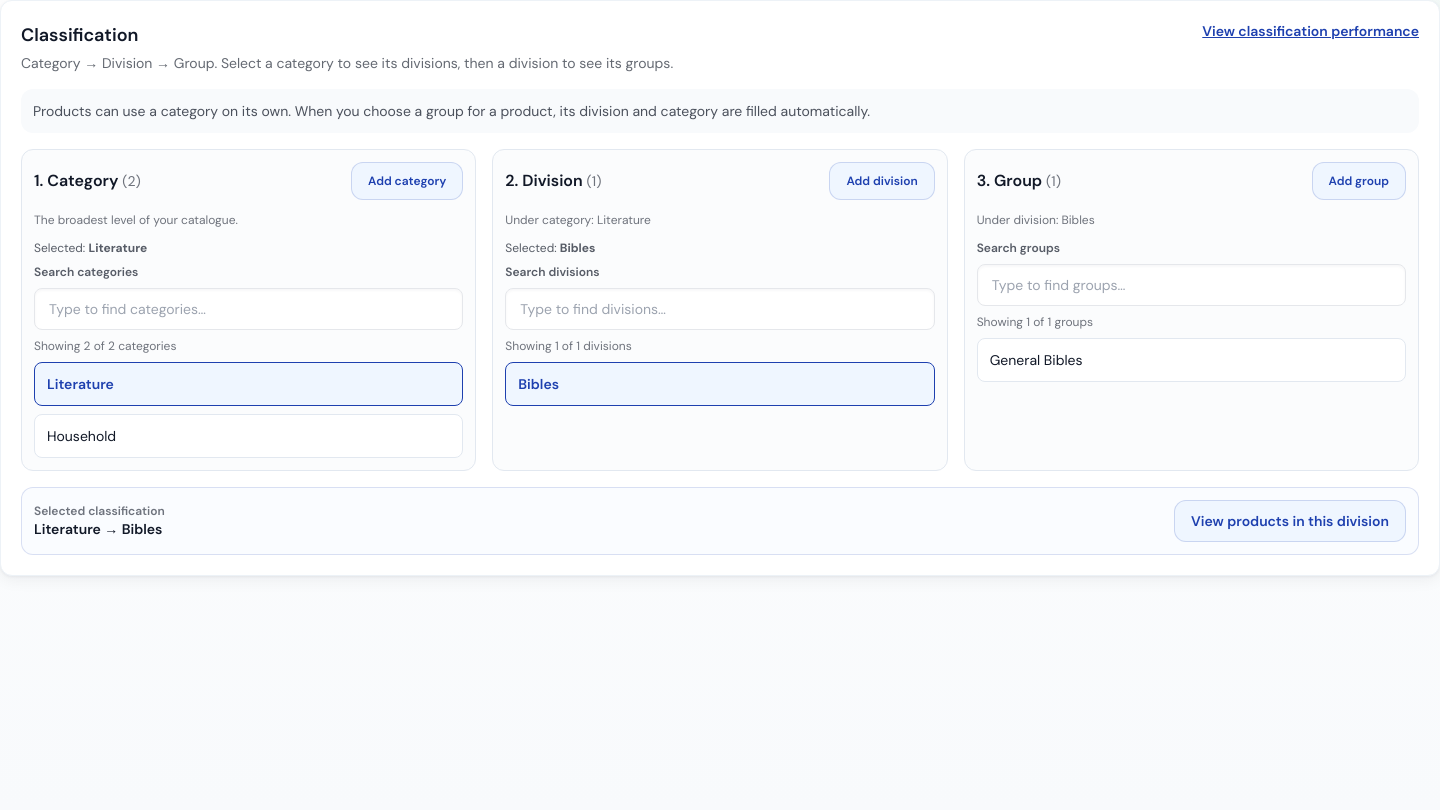
it: preserves the selected parent and typed name after a failed save
The image size is (1440, 810).
Click the button "Add group": (1359, 181) [1312,162,1406,200]
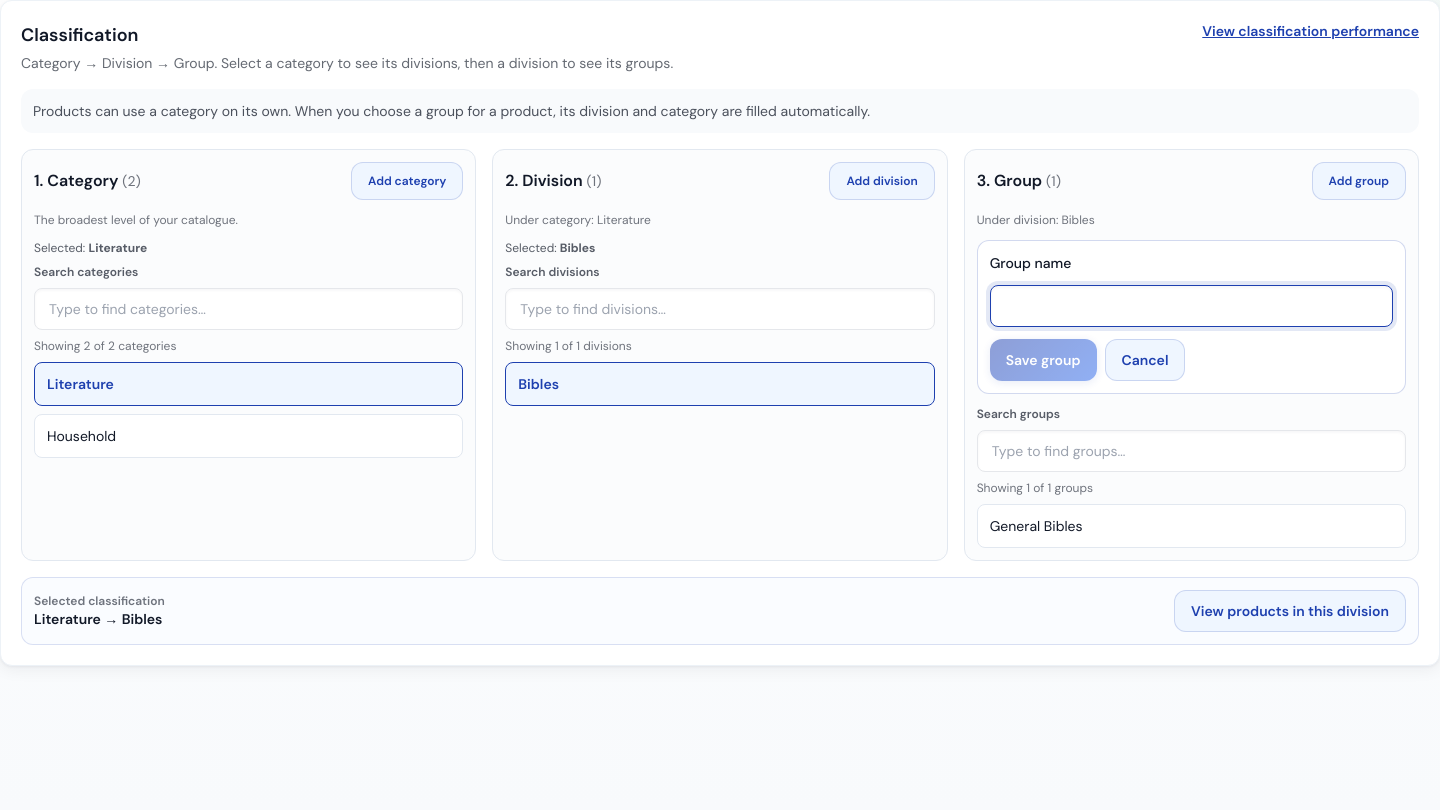
In the field labelled "Group name": (1191, 306) [990,285,1393,327], type "General Bibles"
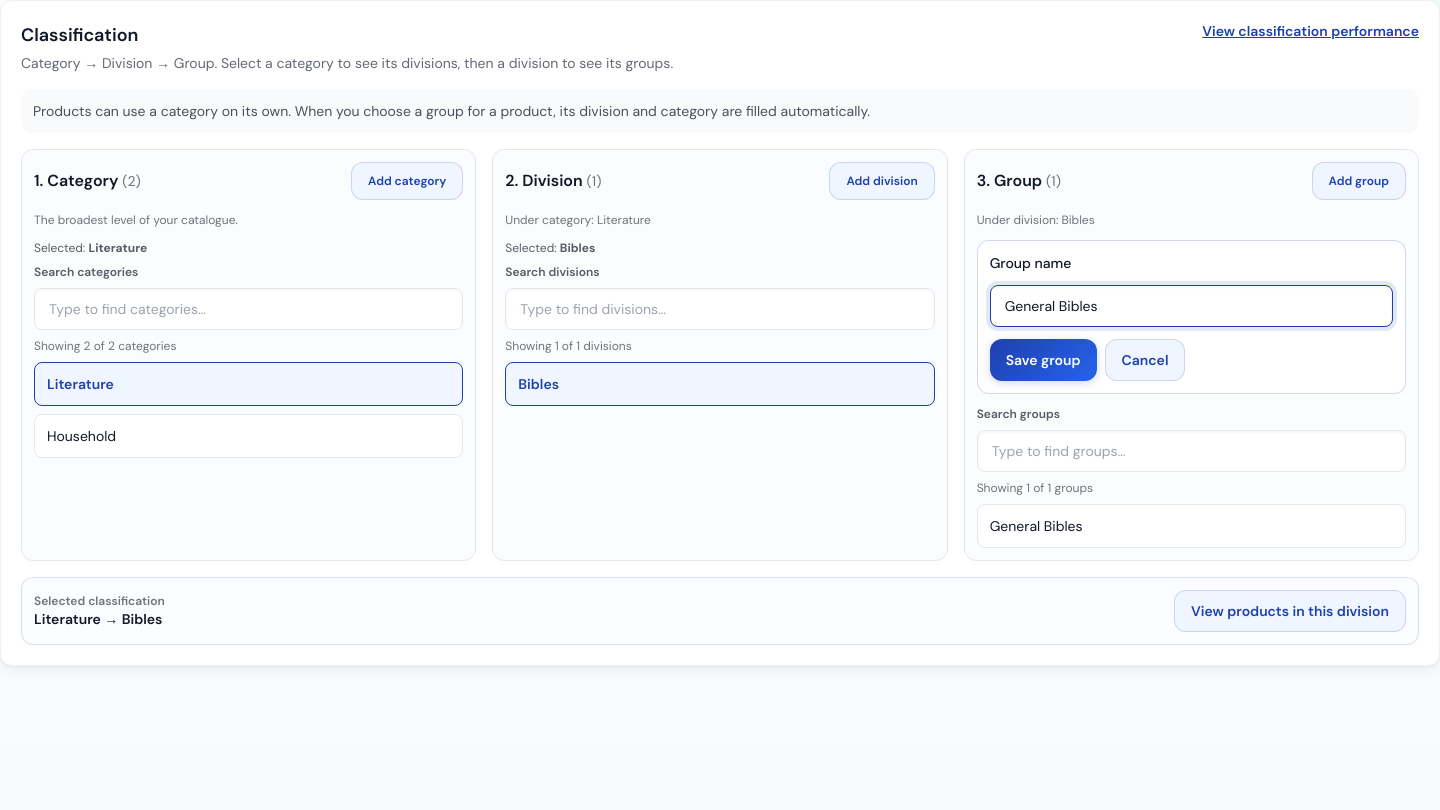
Click the button "Save group": (1043, 360) [990,339,1097,381]
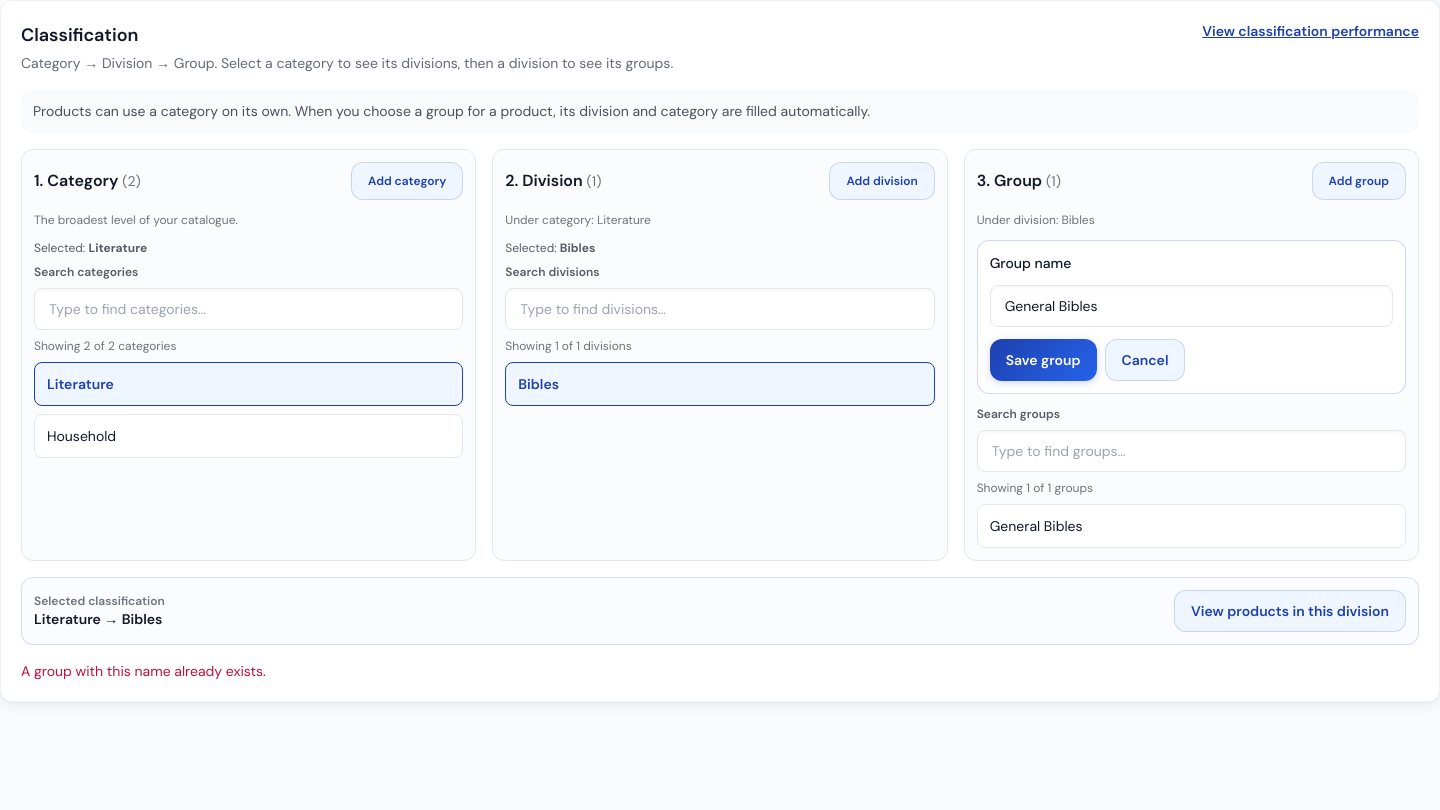
Now the message shows "already exists", box [21,662,266,680]
